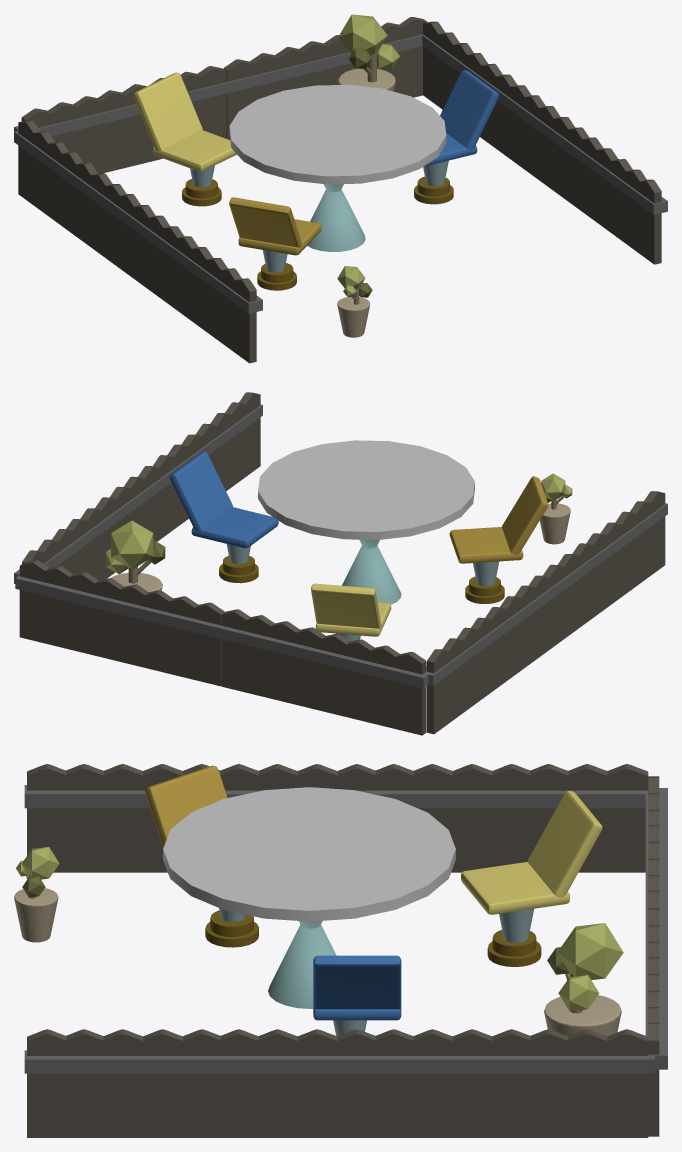
The model's file is SM_house_4-1.fbx.
3 views of the same model, one above another, from view 1: azimuth 30°, elevation 25°; view 2: azimuth 150°, elevation 25°; view 3: azimuth 270°, elevation 25° (orthographic). The views are drawn at different scales.
Visible parts, largest first — view 1: polySurface375; view 2: polySurface375; view 3: polySurface375.
Part boxes in pixels (x1,y1,x2,y2): polySurface375: [14, 14, 667, 363]; polySurface375: [14, 392, 667, 735]; polySurface375: [14, 764, 667, 1137].
Size of the model in its own units: 311 by 80.76 by 313.
